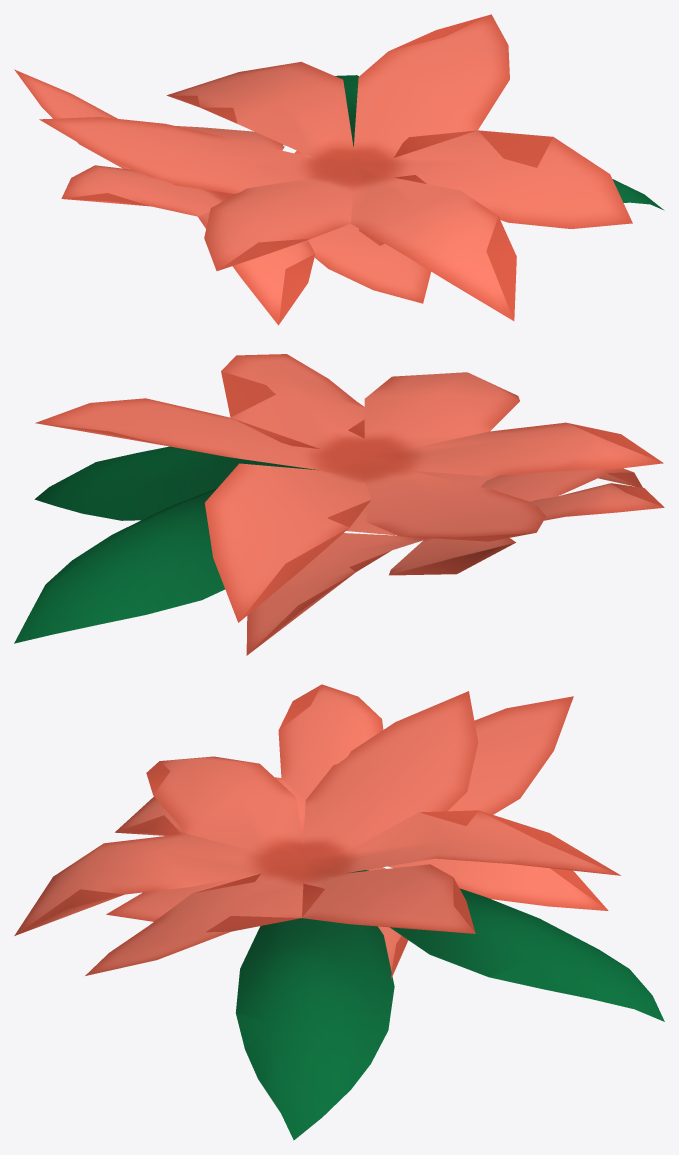
The model's file is flower.fbx.
3 views of the same model, one above another, from view 1: azimuth 30°, elevation 25°; view 2: azimuth 150°, elevation 25°; view 3: azimuth 270°, elevation 25° (orthographic). The views are drawn at different scales.
Visible parts, largest first — view 1: flower; view 2: flower; view 3: flower.
Boxes of the visible parts, x1,y1,x2,y2 form: flower: (14, 14, 664, 325); flower: (14, 354, 664, 655); flower: (14, 684, 664, 1140).
Bounding box in the file's own units: 39.13 × 10.78 × 35.56.
